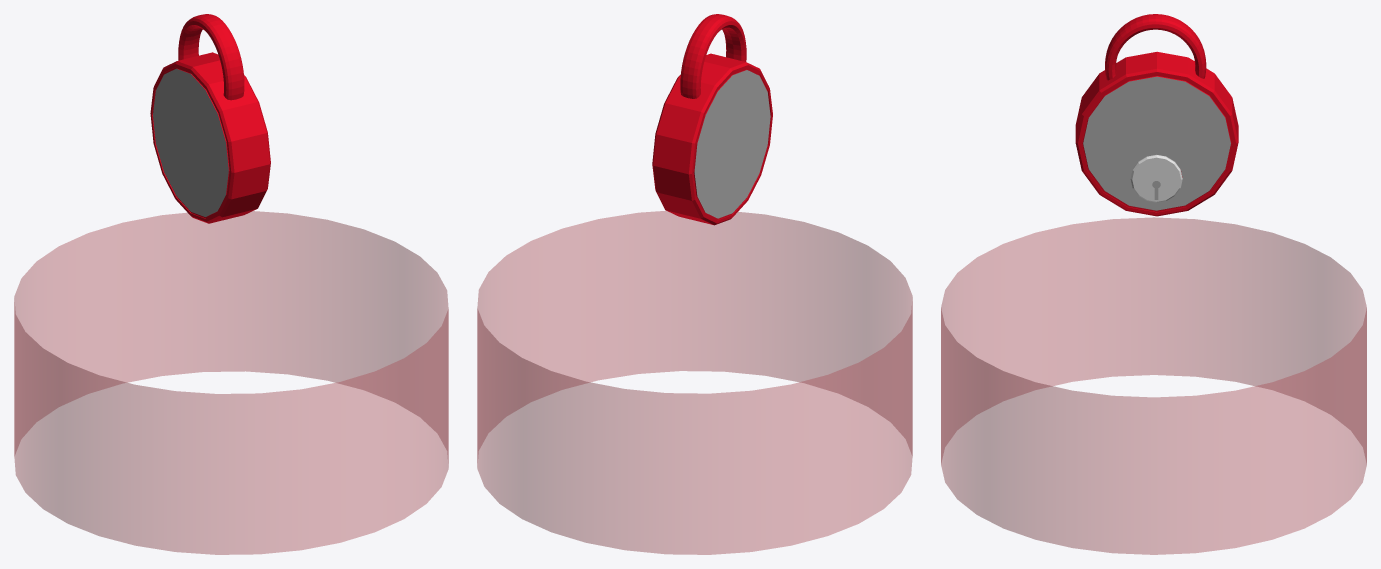
The model's file is lock.gltf.
3 renders of one model, left to right at view 1: azimuth 30°, elevation 25°; view 2: azimuth 150°, elevation 25°; view 3: azimuth 270°, elevation 25°, orthographic. The views are drawn at different scales.
Parts seen in each view (by area): view 1: 円柱, 円柱.001, lock; view 2: 円柱, 円柱.001, lock; view 3: 円柱, 円柱.001, lock.
Part boxes in pixels (bbox=[...]): 円柱: bbox=[14, 211, 448, 554]; 円柱.001: bbox=[14, 211, 448, 554]; lock: bbox=[150, 14, 270, 223]; 円柱: bbox=[477, 211, 912, 554]; 円柱.001: bbox=[477, 211, 912, 554]; lock: bbox=[652, 14, 772, 225]; 円柱: bbox=[941, 217, 1366, 554]; 円柱.001: bbox=[941, 218, 1366, 554]; lock: bbox=[1075, 14, 1238, 216].
Size of the model in its own units: 2 by 2.28 by 2.
